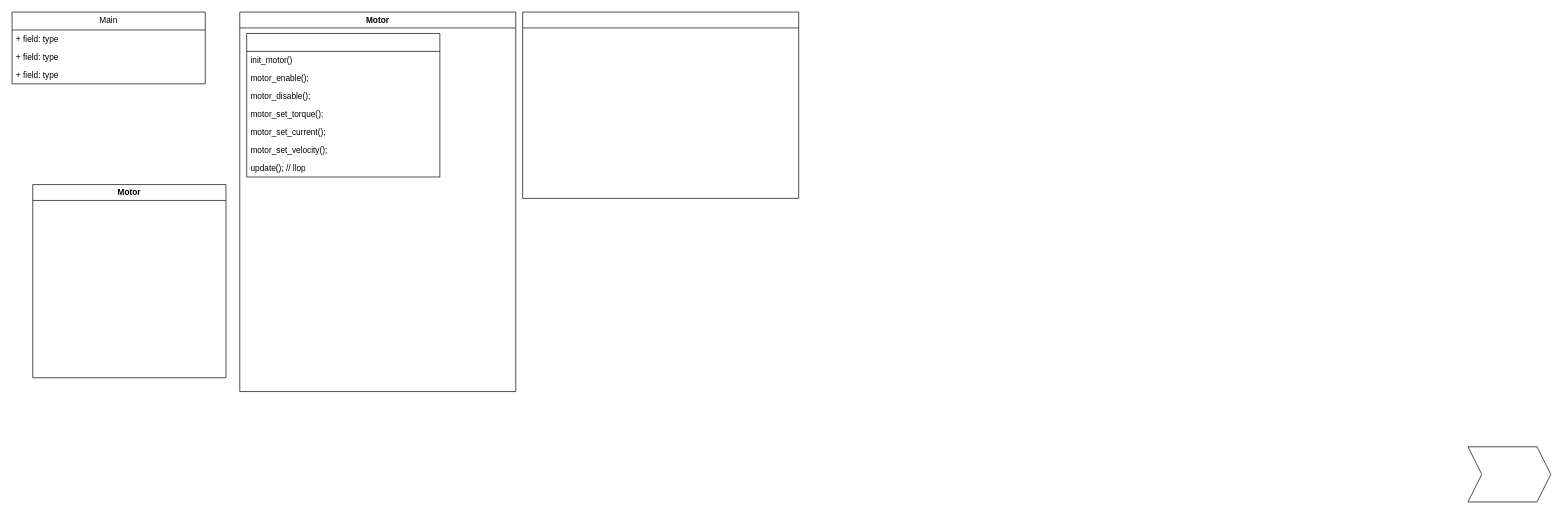
Some shapes in this 1563 by 514 pixel diagram are drawn without their labels. Here are the shapes that lost their labels. From the top down, the box of each, then its label:
(246, 33, 440, 177): motor_controller
(522, 11, 799, 198): Motor Driver: drv8353S
